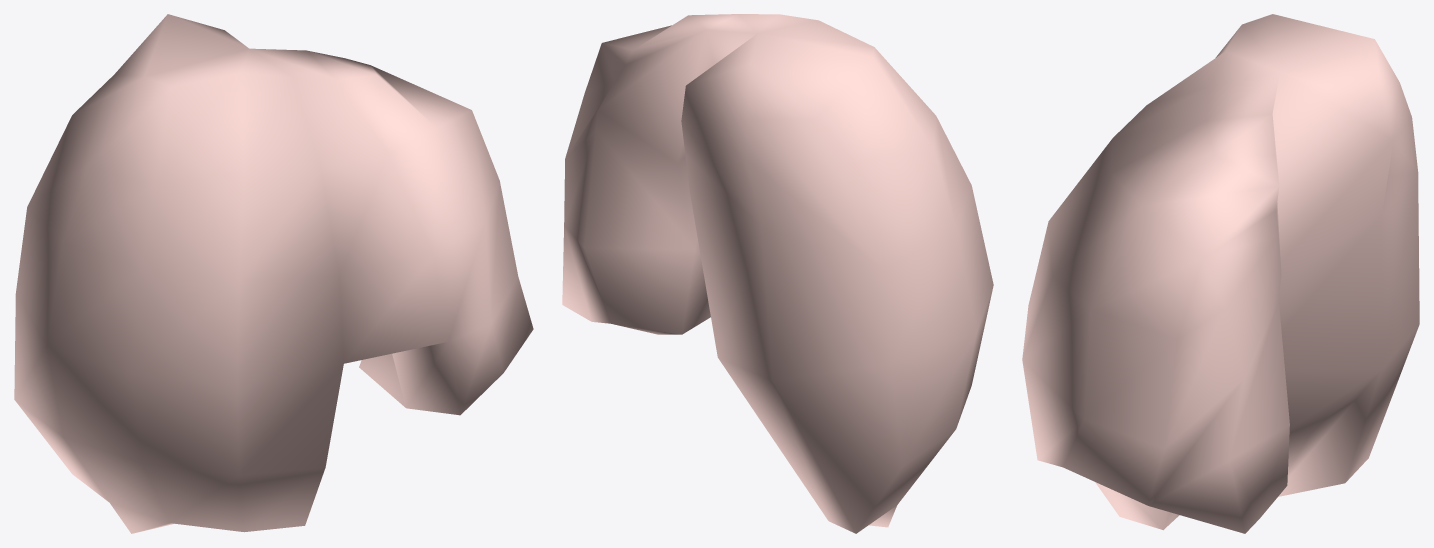
Rendered from hand_right.gltf.
The picture shows the model from 3 angles, left to right: view 1: azimuth 30°, elevation 25°; view 2: azimuth 150°, elevation 25°; view 3: azimuth 270°, elevation 25°; orthographic projection. The views are drawn at different scales.
Parts seen in each view (by area): view 1: Hands; view 2: Hands; view 3: Hands.
Boxes of the visible parts, x1,y1,x2,y2 form: Hands: (14,14,533,533); Hands: (562,14,993,533); Hands: (1022,14,1419,533).
Size of the model in its own units: 0.5658 by 0.5824 by 0.4163.
1 material, 1 textured.
